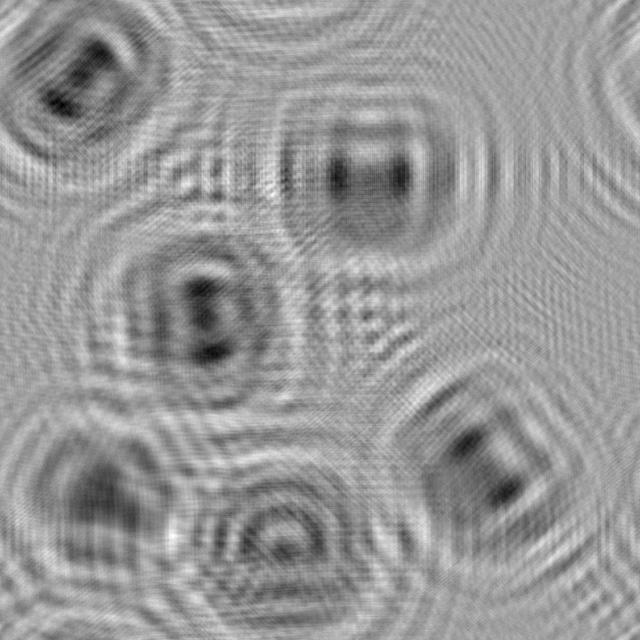A: (0, 363, 250, 622)
B: (53, 180, 334, 436), (0, 0, 204, 220)
D: (147, 415, 407, 640)
E: (220, 34, 511, 306), (341, 333, 624, 608)
